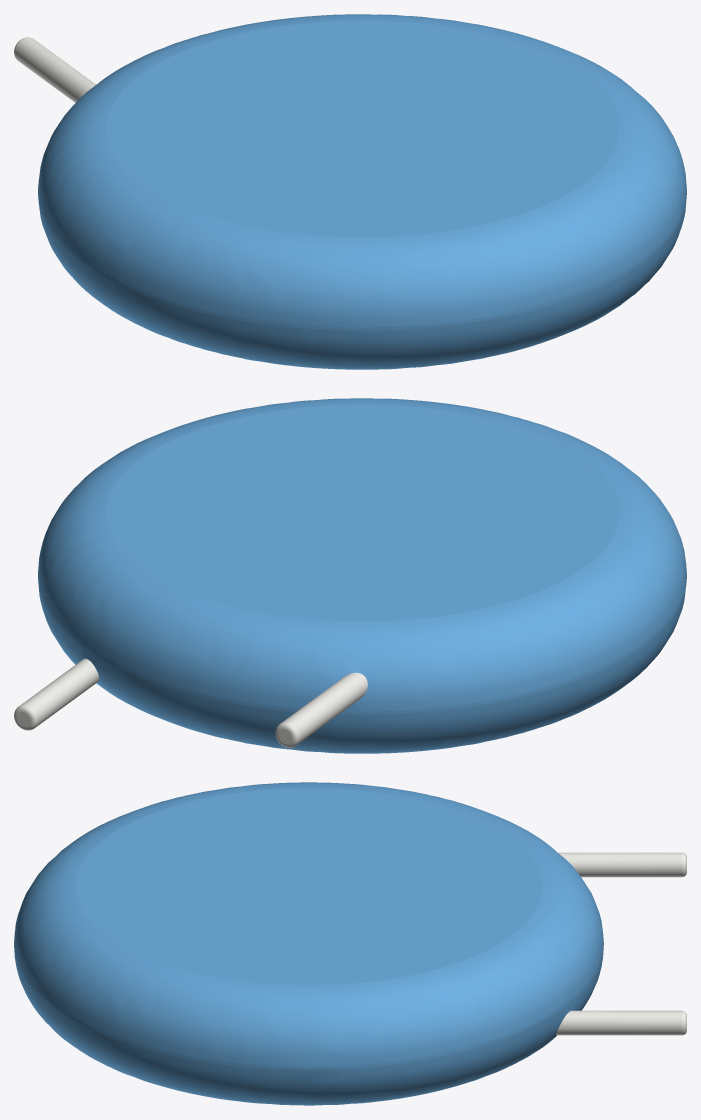
File: RV_Disc_D21.5mm_W4.6mm_P10mm.glb
3 renders of one model, top to bottom at view 1: azimuth 30°, elevation 25°; view 2: azimuth 150°, elevation 25°; view 3: azimuth 270°, elevation 25°, orthographic. The views are drawn at different scales.
Visible parts, largest first — view 1: Shape_IndexedFaceSet.003, Shape_IndexedFaceSet.001, Shape_IndexedFaceSet.002, Shape_IndexedFaceSet, Shape_IndexedFaceSet.004; view 2: Shape_IndexedFaceSet.003, Shape_IndexedFaceSet.001, Shape_IndexedFaceSet.002, Shape_IndexedFaceSet.004, Shape_IndexedFaceSet, Shape_IndexedFaceSet.006; view 3: Shape_IndexedFaceSet.003, Shape_IndexedFaceSet.001, Shape_IndexedFaceSet.002, Shape_IndexedFaceSet.006, Shape_IndexedFaceSet.004, Shape_IndexedFaceSet.
Boxes of the visible parts, x1,y1,x2,y2 form: Shape_IndexedFaceSet.003: [105, 20, 618, 237]; Shape_IndexedFaceSet.001: [38, 14, 686, 327]; Shape_IndexedFaceSet.002: [38, 197, 686, 369]; Shape_IndexedFaceSet: [38, 192, 686, 330]; Shape_IndexedFaceSet.004: [14, 37, 95, 102]; Shape_IndexedFaceSet.003: [106, 404, 618, 621]; Shape_IndexedFaceSet.001: [38, 398, 686, 711]; Shape_IndexedFaceSet.002: [38, 582, 686, 753]; Shape_IndexedFaceSet.004: [281, 672, 367, 744]; Shape_IndexedFaceSet: [38, 576, 686, 714]; Shape_IndexedFaceSet.006: [20, 658, 99, 726]; Shape_IndexedFaceSet.003: [75, 788, 541, 985]; Shape_IndexedFaceSet.001: [14, 782, 603, 1067]; Shape_IndexedFaceSet.002: [14, 904, 603, 1105]; Shape_IndexedFaceSet.006: [556, 1010, 681, 1035]; Shape_IndexedFaceSet.004: [558, 852, 681, 877]; Shape_IndexedFaceSet: [14, 943, 603, 1069].
Size of the model in its own units: 8.47 by 1.81 by 9.66.
